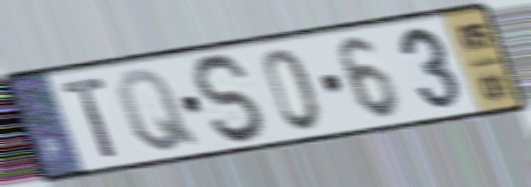0: (262, 47, 323, 133)
3: (395, 23, 470, 113)
6: (336, 33, 403, 123)
Q: (113, 66, 203, 155)
S: (189, 51, 273, 147)
T: (57, 74, 122, 161)
